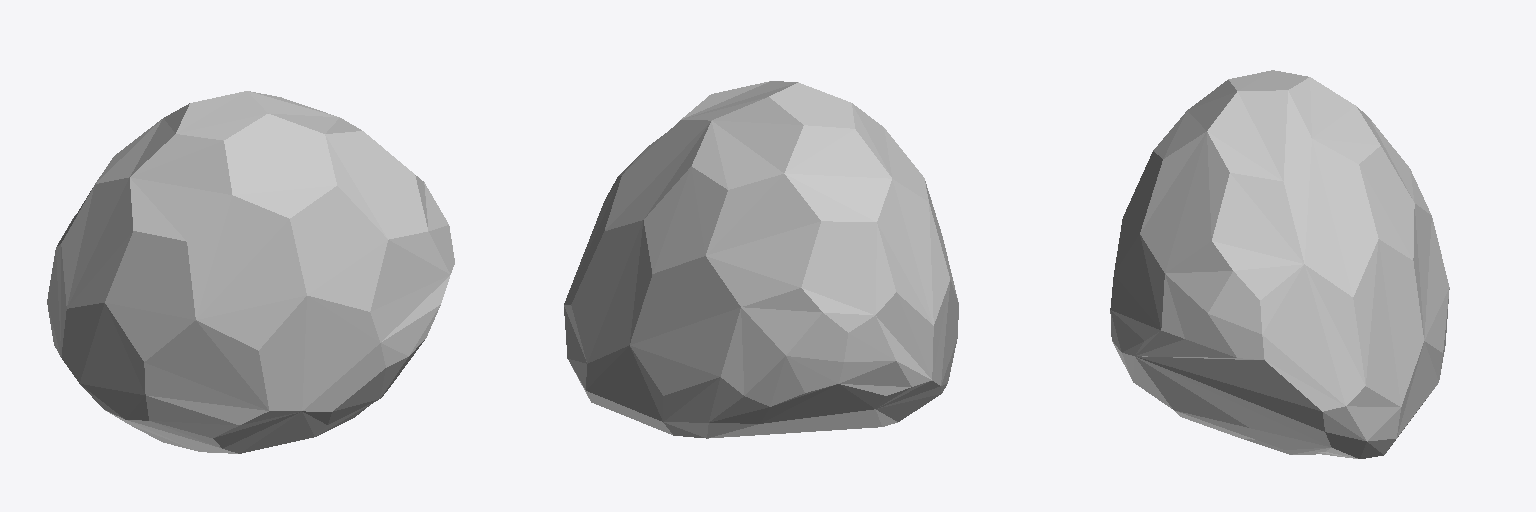
The model's file is small_stone.obj.
The picture shows the model from 3 angles: view 1: azimuth 30°, elevation 25°; view 2: azimuth 150°, elevation 25°; view 3: azimuth 270°, elevation 25°; orthographic projection.
Parts seen in each view (by area): view 1: Icosphere.063; view 2: Icosphere.063; view 3: Icosphere.063.
Part boxes in pixels (bbox=[...]): Icosphere.063: bbox=[47, 91, 454, 453]; Icosphere.063: bbox=[564, 81, 958, 438]; Icosphere.063: bbox=[1110, 70, 1449, 458].
Bounding box in the file's own units: 0.6147 × 0.5348 × 0.5033.